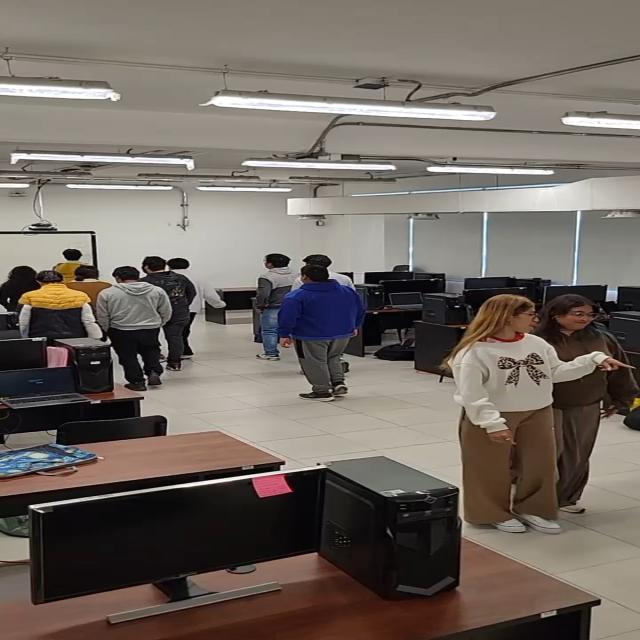Persona: (424, 292, 562, 532), (560, 300, 640, 515), (293, 265, 373, 412), (104, 273, 172, 388), (142, 253, 219, 334), (31, 275, 97, 344), (258, 252, 297, 348)
